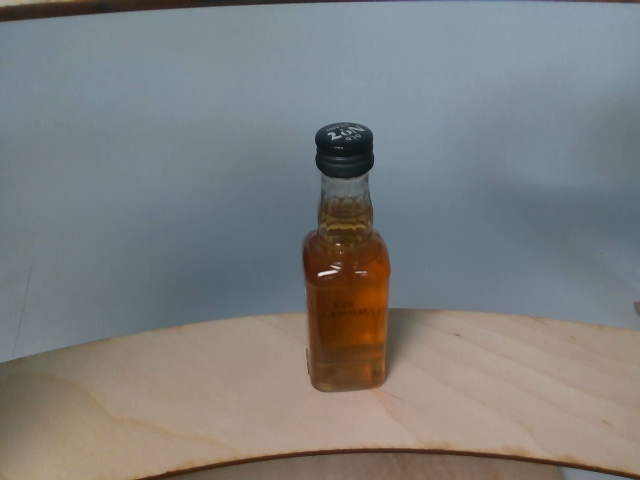whiskey: (302, 122, 390, 394)
